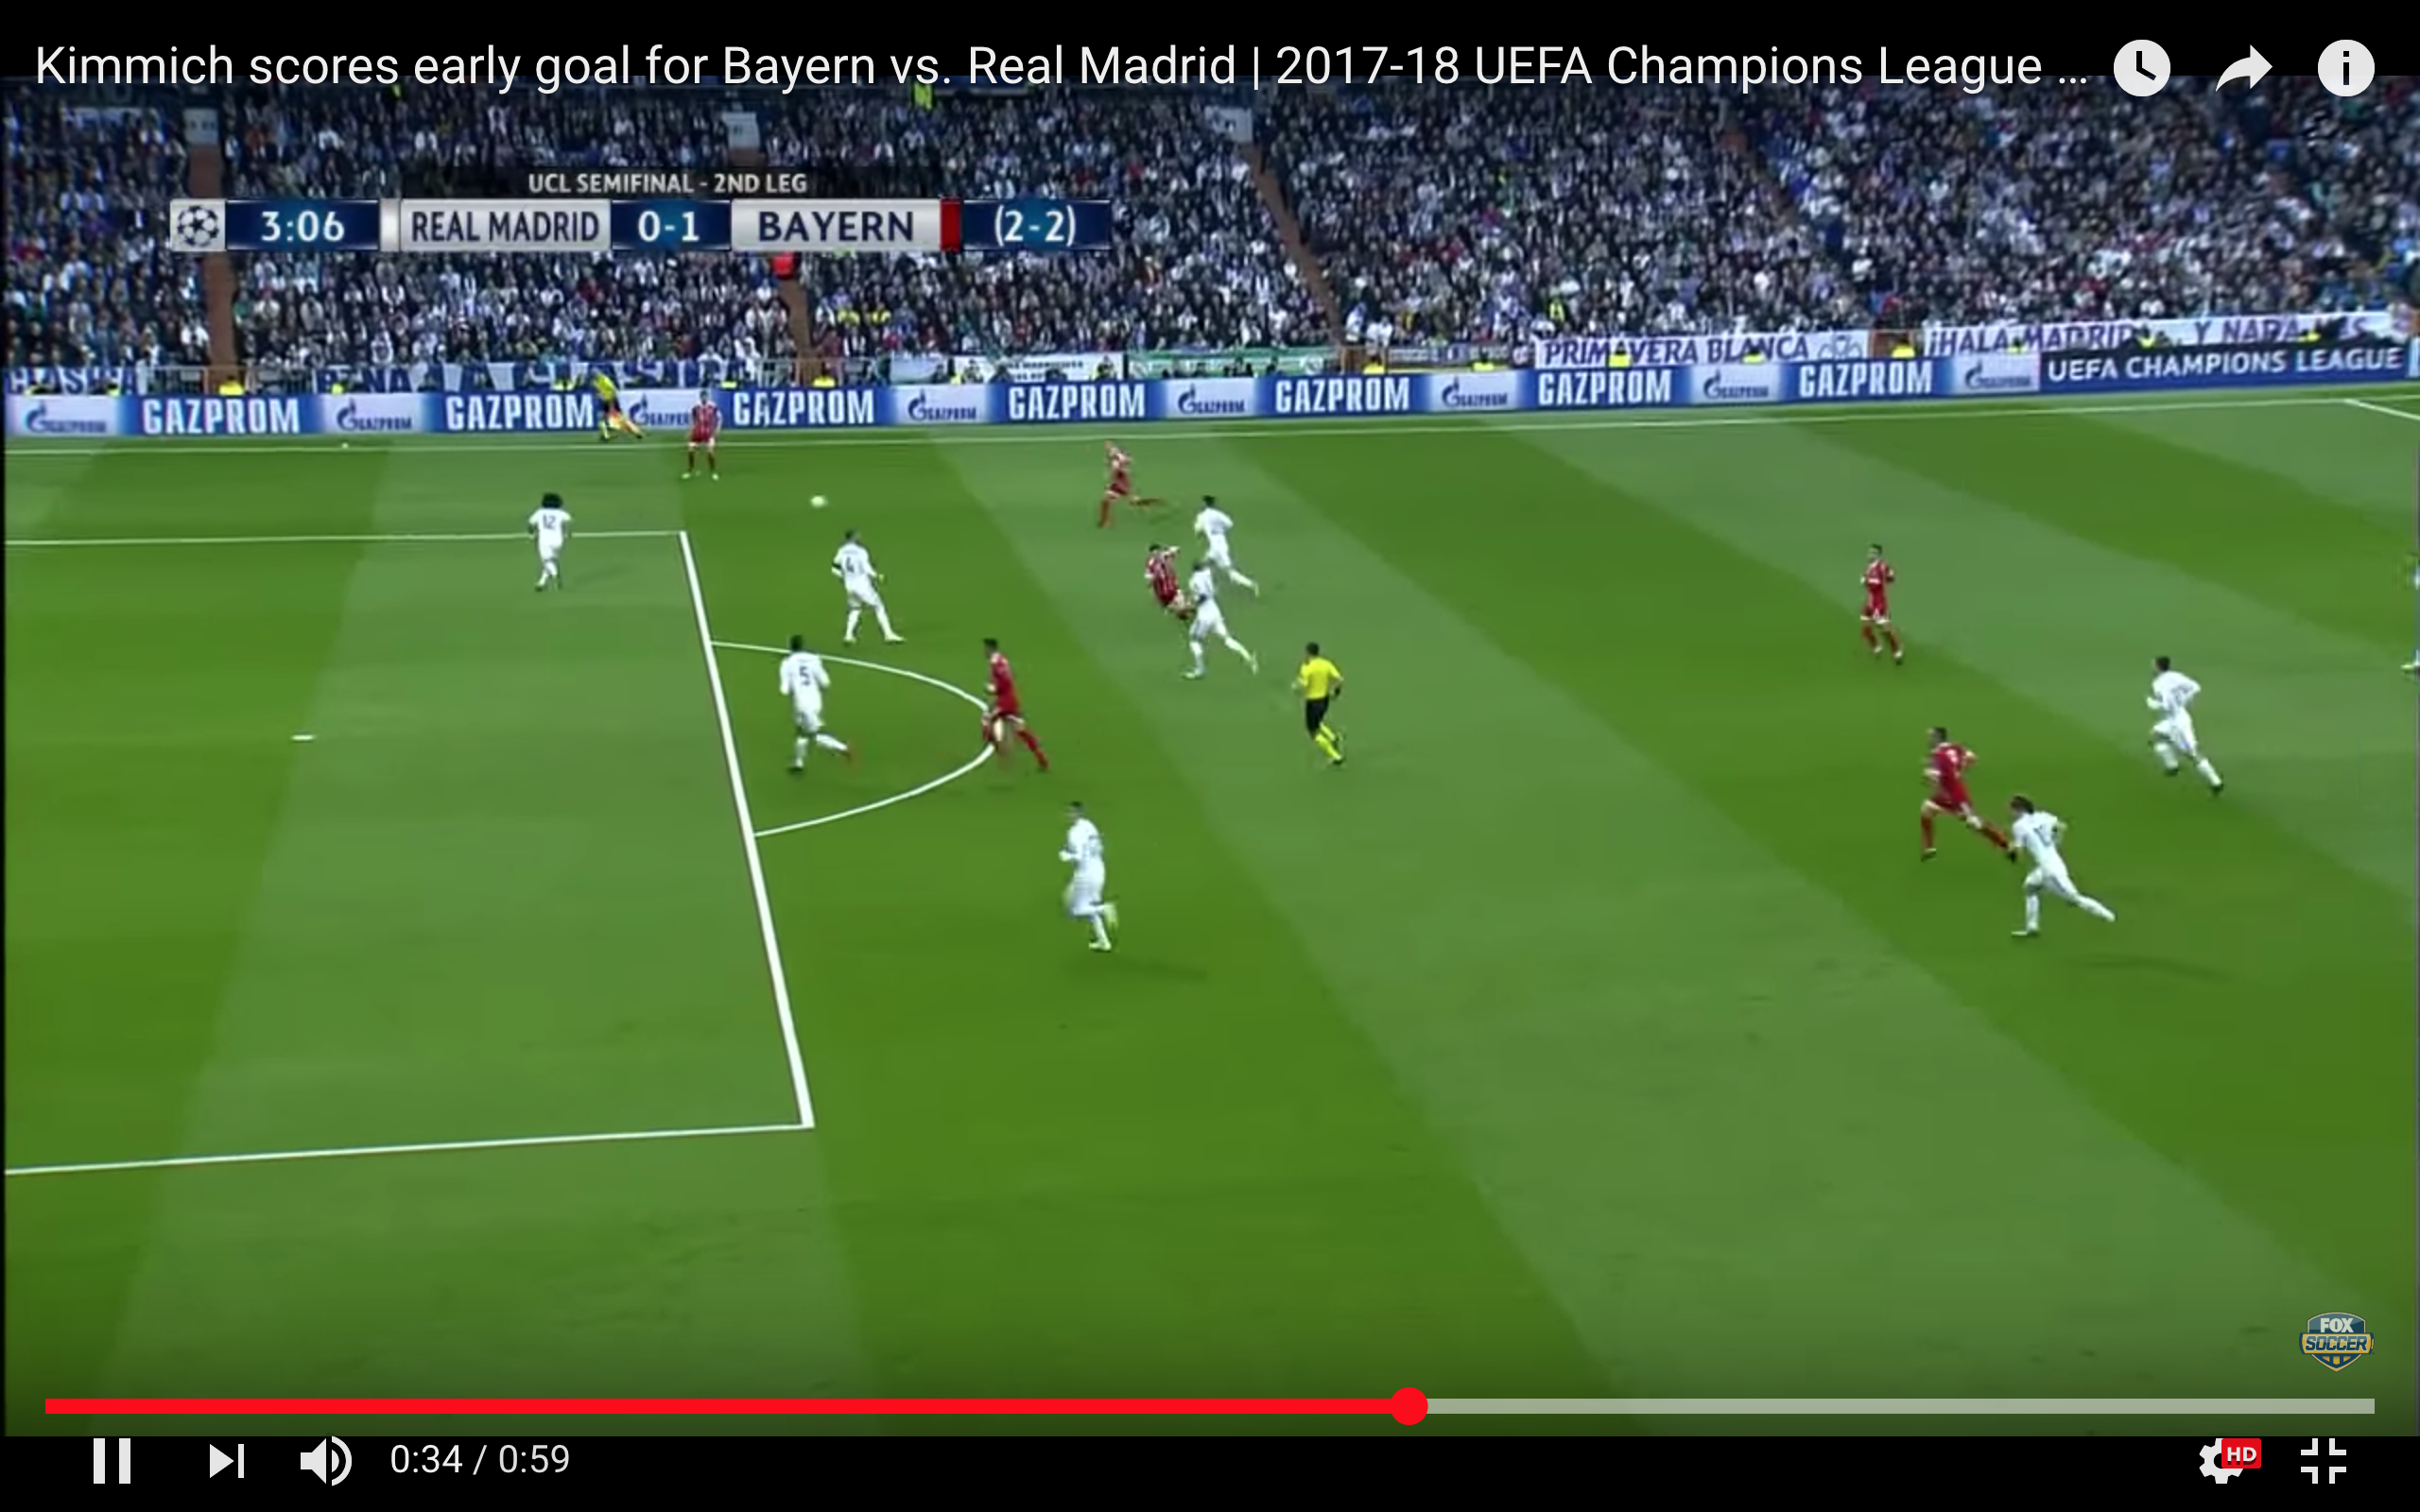referee: (1286, 640, 1360, 774)
soccer ball: (799, 484, 838, 517)
soccer player: (2002, 789, 2118, 947), (1894, 723, 2023, 867), (1038, 794, 1134, 960), (2134, 652, 2232, 807), (764, 628, 863, 780), (967, 630, 1061, 786), (1177, 558, 1265, 689), (821, 525, 910, 650), (1176, 495, 1267, 615), (1844, 538, 1912, 672), (510, 492, 593, 602), (1082, 438, 1173, 536), (675, 387, 733, 485), (1135, 539, 1191, 622)
